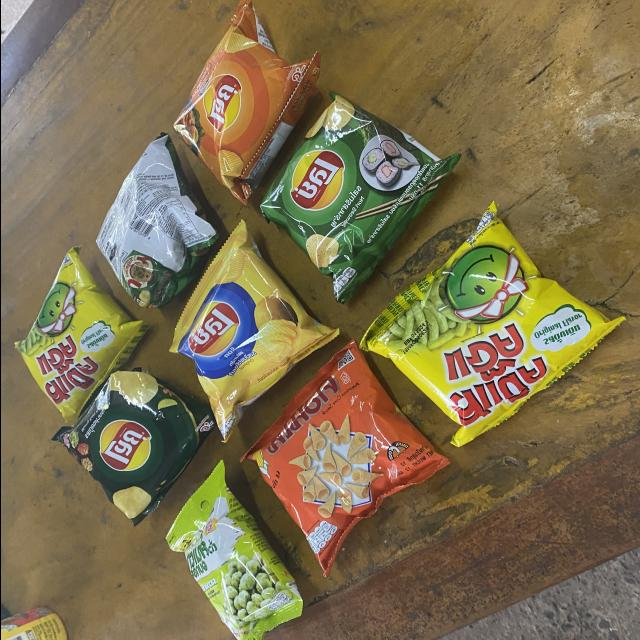plastik: (360, 202, 624, 447), (242, 340, 447, 575), (259, 91, 459, 302), (169, 221, 338, 441), (173, 0, 319, 203), (51, 371, 215, 524), (165, 461, 301, 640), (14, 246, 148, 423), (96, 133, 216, 307)
